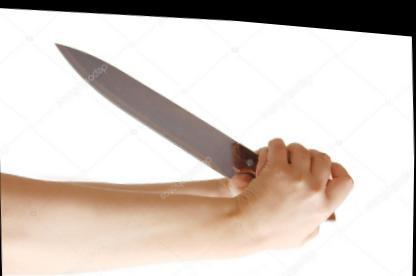knife: (46, 28, 356, 210)
